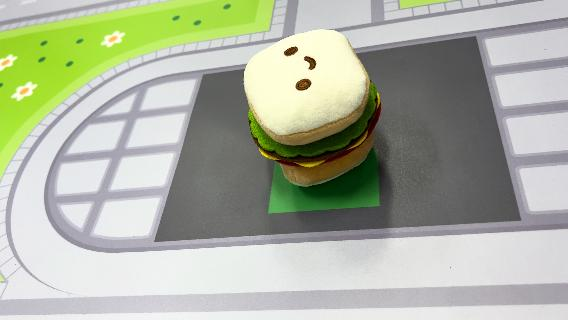sandwich: (242, 26, 384, 188)
